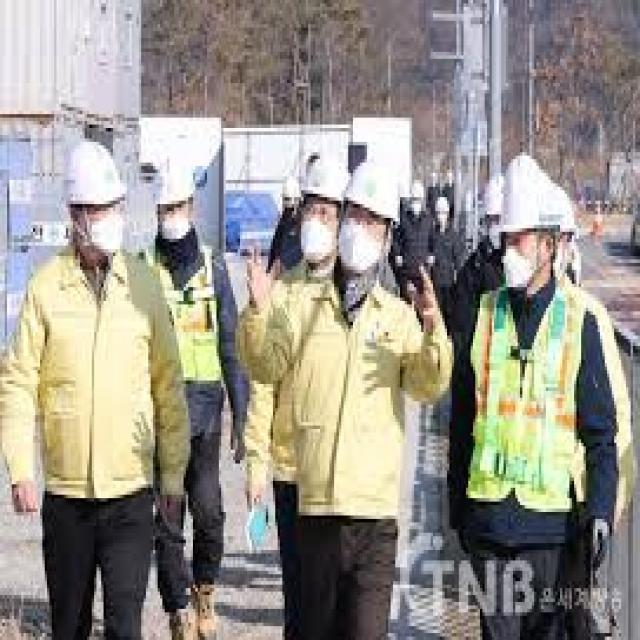belt: (486, 284, 572, 504), (153, 247, 215, 386)
